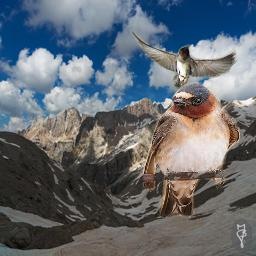Swallow: (143, 82, 240, 218), (129, 29, 238, 94)
